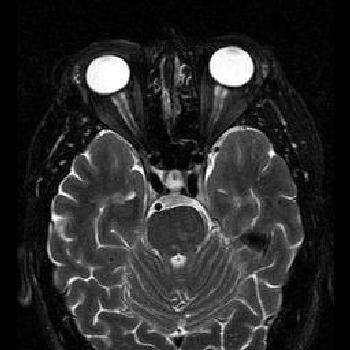Normal_Brain: (15, 10, 350, 350)
